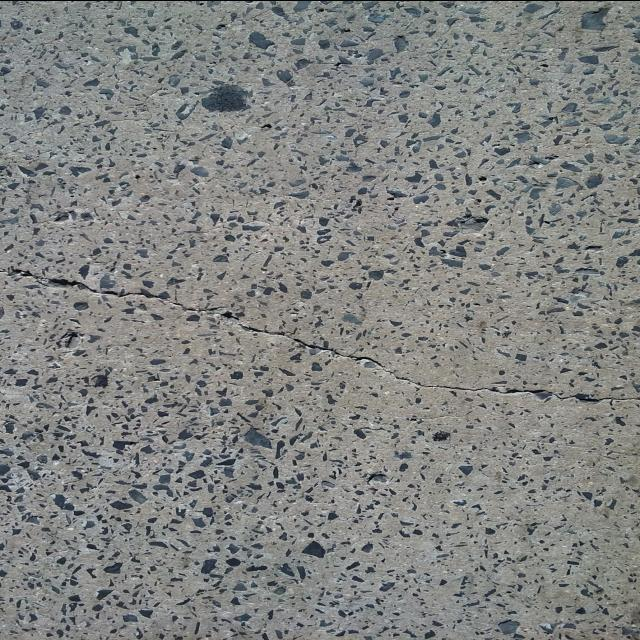Crack: (239, 324, 640, 401), (0, 267, 225, 310)
